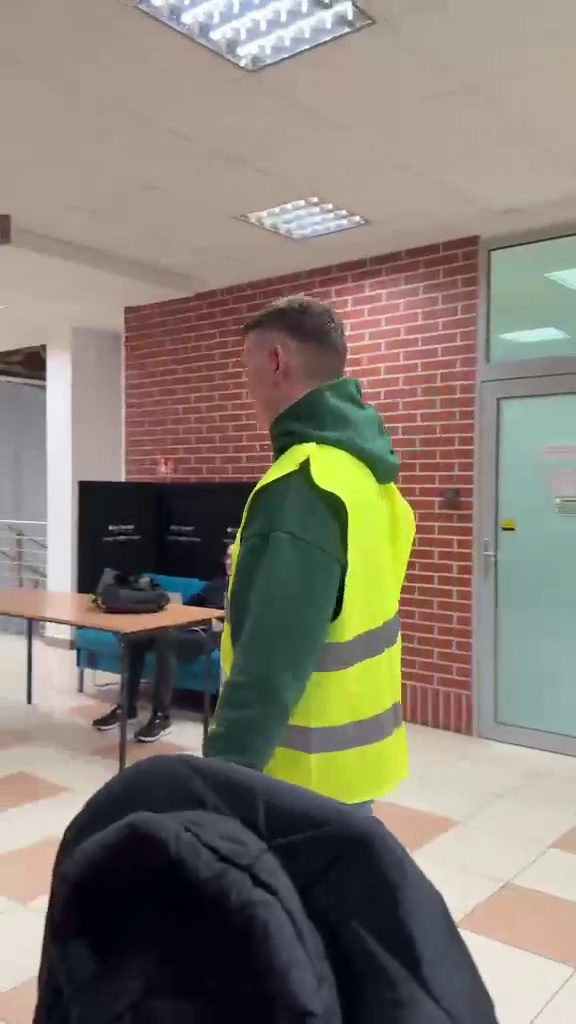vest: (216, 294, 423, 834)
